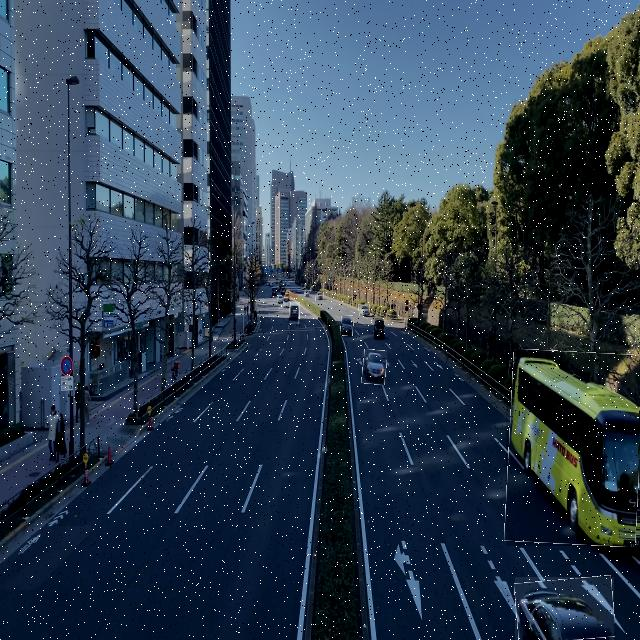Bus: (506, 351, 640, 546)
Car: (515, 577, 614, 640), (362, 350, 387, 384), (341, 315, 354, 336), (374, 316, 384, 340), (290, 302, 300, 324), (359, 304, 370, 316), (316, 291, 324, 301)
